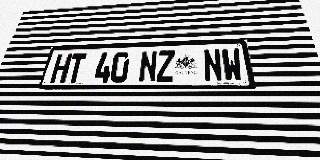0: (110, 52, 130, 82)
4: (93, 52, 114, 83)
H: (50, 54, 72, 83)
N: (203, 49, 223, 82), (138, 51, 157, 82)
T: (65, 53, 87, 83)
W: (221, 48, 244, 81)
Z: (156, 50, 174, 82)
